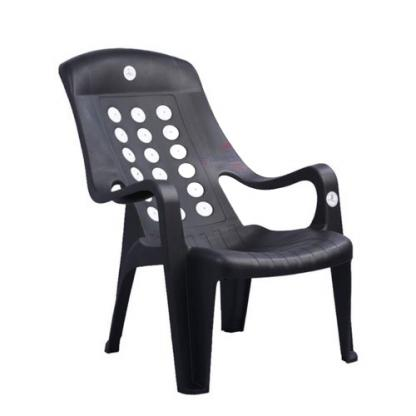chair: (52, 49, 365, 407)
